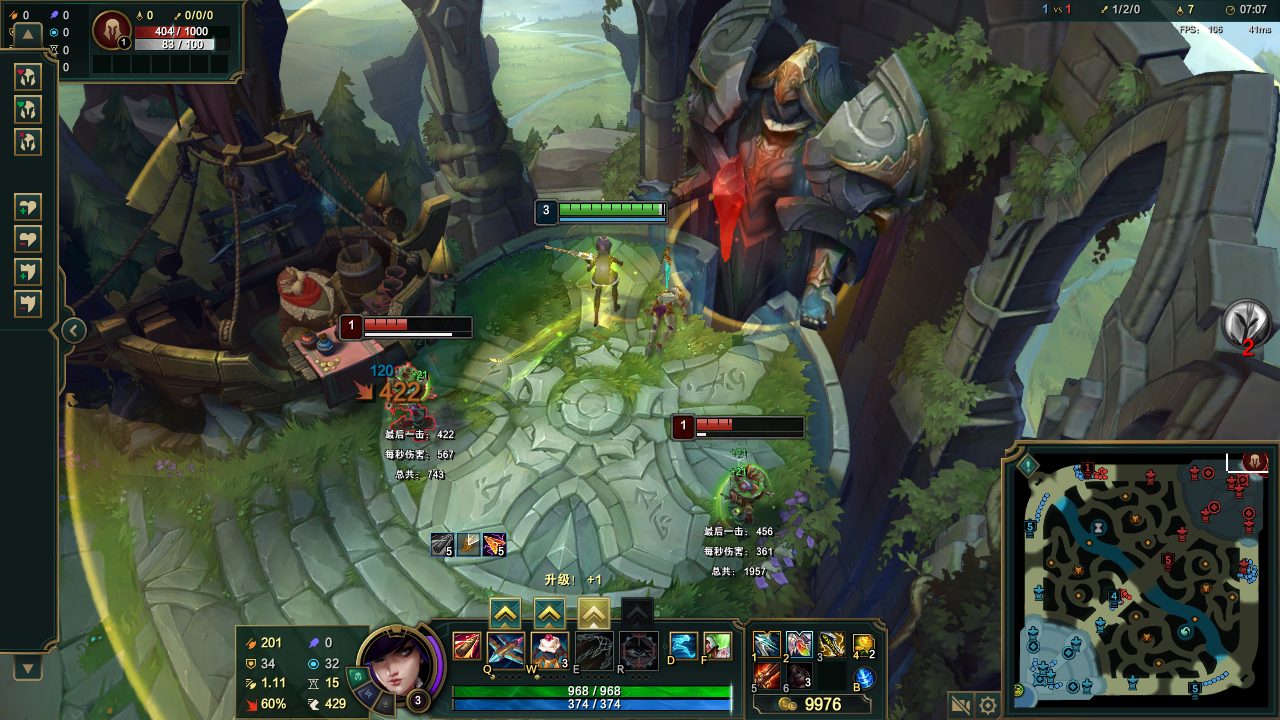DFYX: (361, 315, 474, 330), (695, 416, 804, 429)
